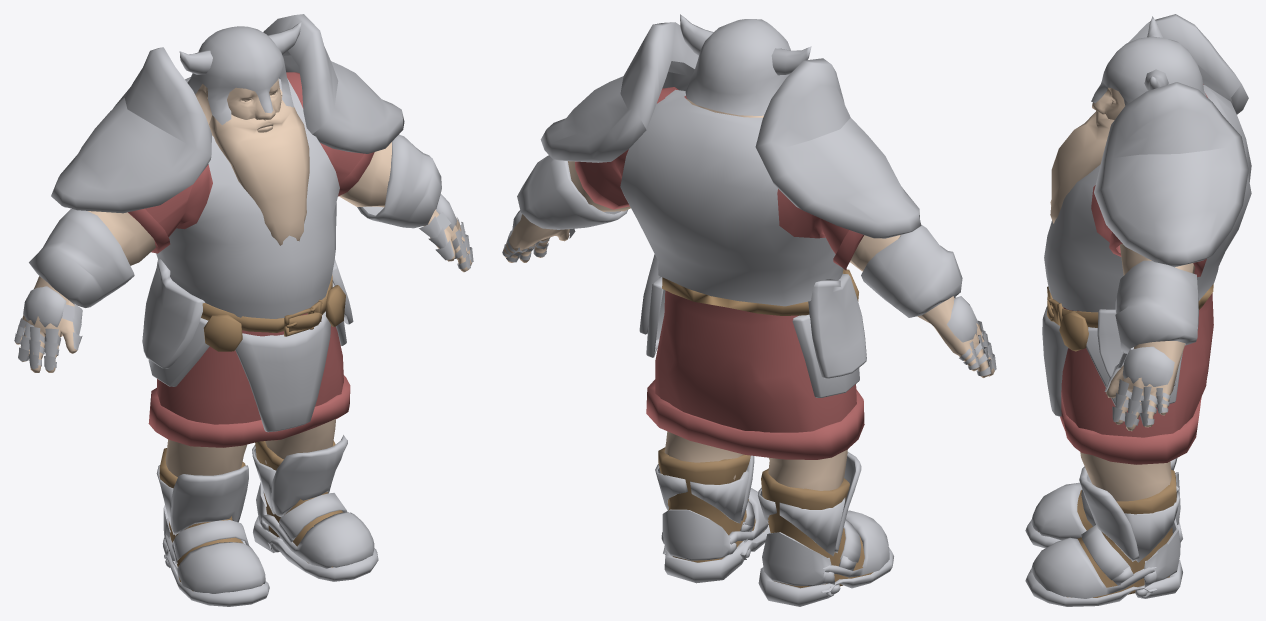
File: dwarf.glb
The picture shows the model from 3 angles, left to right: view 1: azimuth 30°, elevation 25°; view 2: azimuth 150°, elevation 25°; view 3: azimuth 270°, elevation 25°; orthographic projection. The views are drawn at different scales.
Visible parts, largest first — view 1: armor, body, cloth, leather; view 2: armor, cloth, leather, body; view 3: armor, cloth, body, leather.
Part boxes in pixels (x1,y1,x2,y2): armor: (14,14,473,606); body: (15,79,472,477); cloth: (128,72,374,447); leather: (159,274,345,591); armor: (502,14,996,606); cloth: (575,87,864,459); leather: (658,269,873,588); body: (503,99,994,490); armor: (1025,14,1251,606); cloth: (1060,84,1213,464); body: (1050,87,1195,501); leather: (1038,284,1213,597).
Bounding box in the file's own units: 1.69 × 1.86 × 0.7283.
